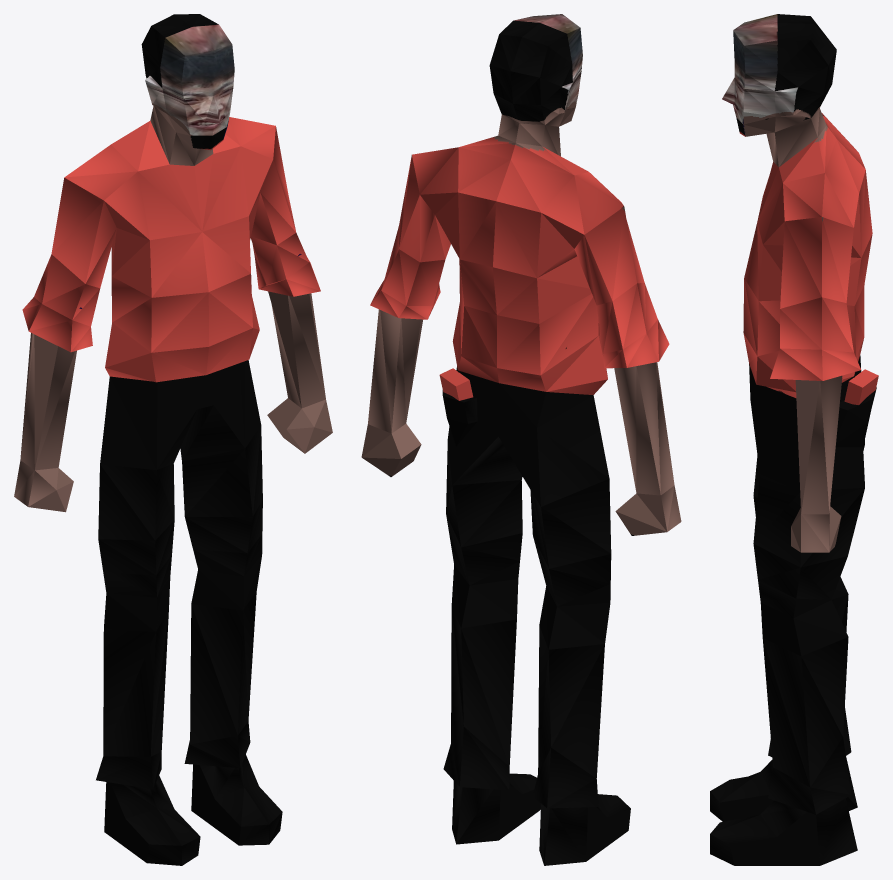
File: amir.fbx
3 renders of one model, left to right at view 1: azimuth 30°, elevation 25°; view 2: azimuth 150°, elevation 25°; view 3: azimuth 270°, elevation 25°, orthographic.
Parts seen in each view (by area): view 1: Object_34.006; view 2: Object_34.006; view 3: Object_34.006.
Boxes of the visible parts, x1,y1,x2,y2 form: Object_34.006: [14, 14, 332, 865]; Object_34.006: [361, 14, 681, 865]; Object_34.006: [710, 14, 878, 865].
Size of the model in its own units: 68.9 by 174 by 32.8.
2 materials, 2 textured.
